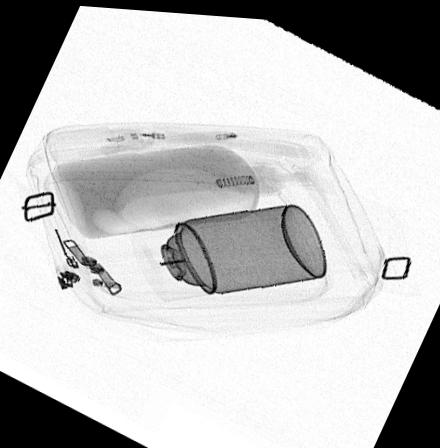Sprayer: (130, 197, 329, 299)
